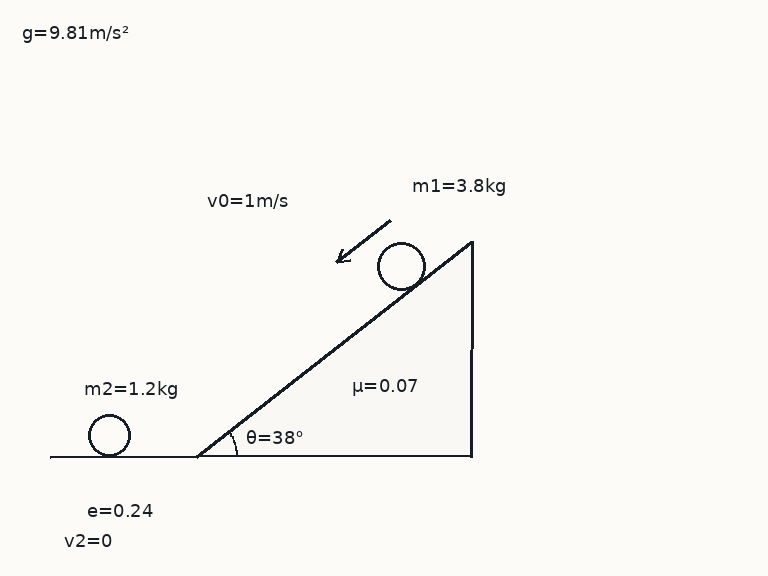ball: (375, 240, 427, 292), (86, 412, 132, 458)
ramp: (195, 240, 473, 458)
